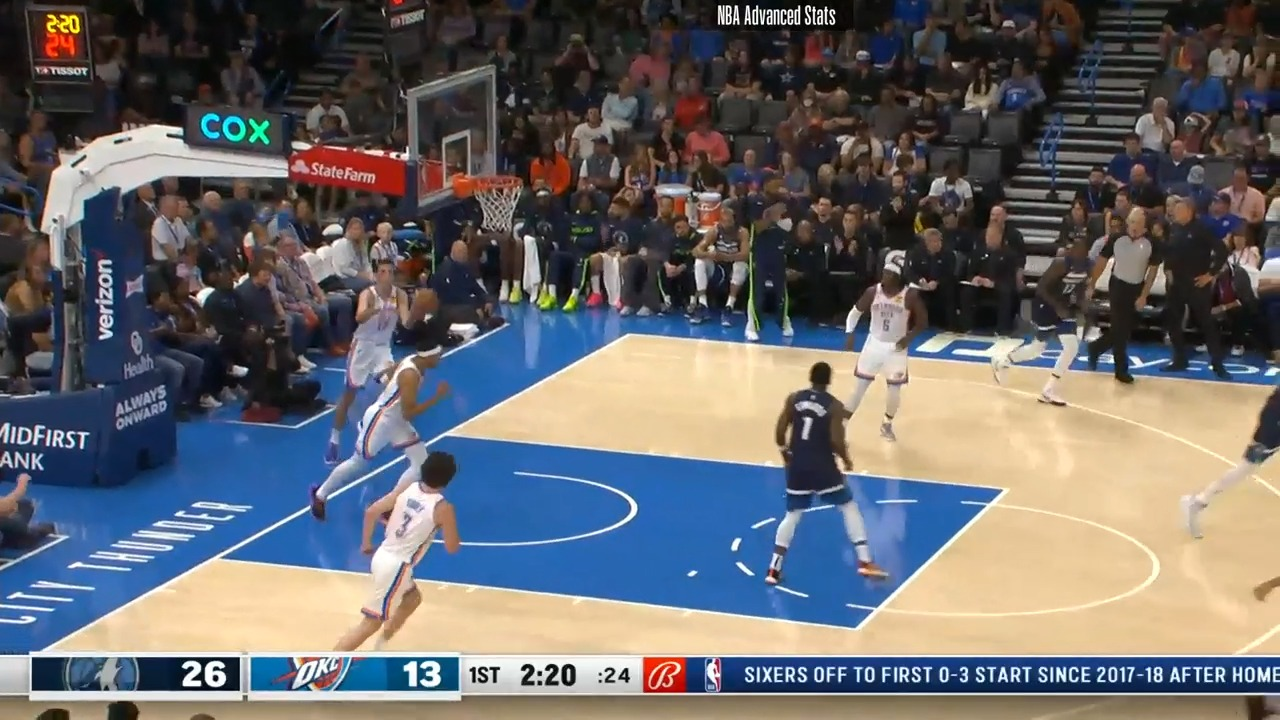net: (448, 167, 524, 234)
player: (313, 324, 468, 526), (323, 447, 475, 650), (766, 357, 888, 590), (1182, 337, 1280, 549), (321, 257, 417, 461), (998, 230, 1102, 406), (836, 262, 930, 447)
referee: (1089, 207, 1165, 391)
